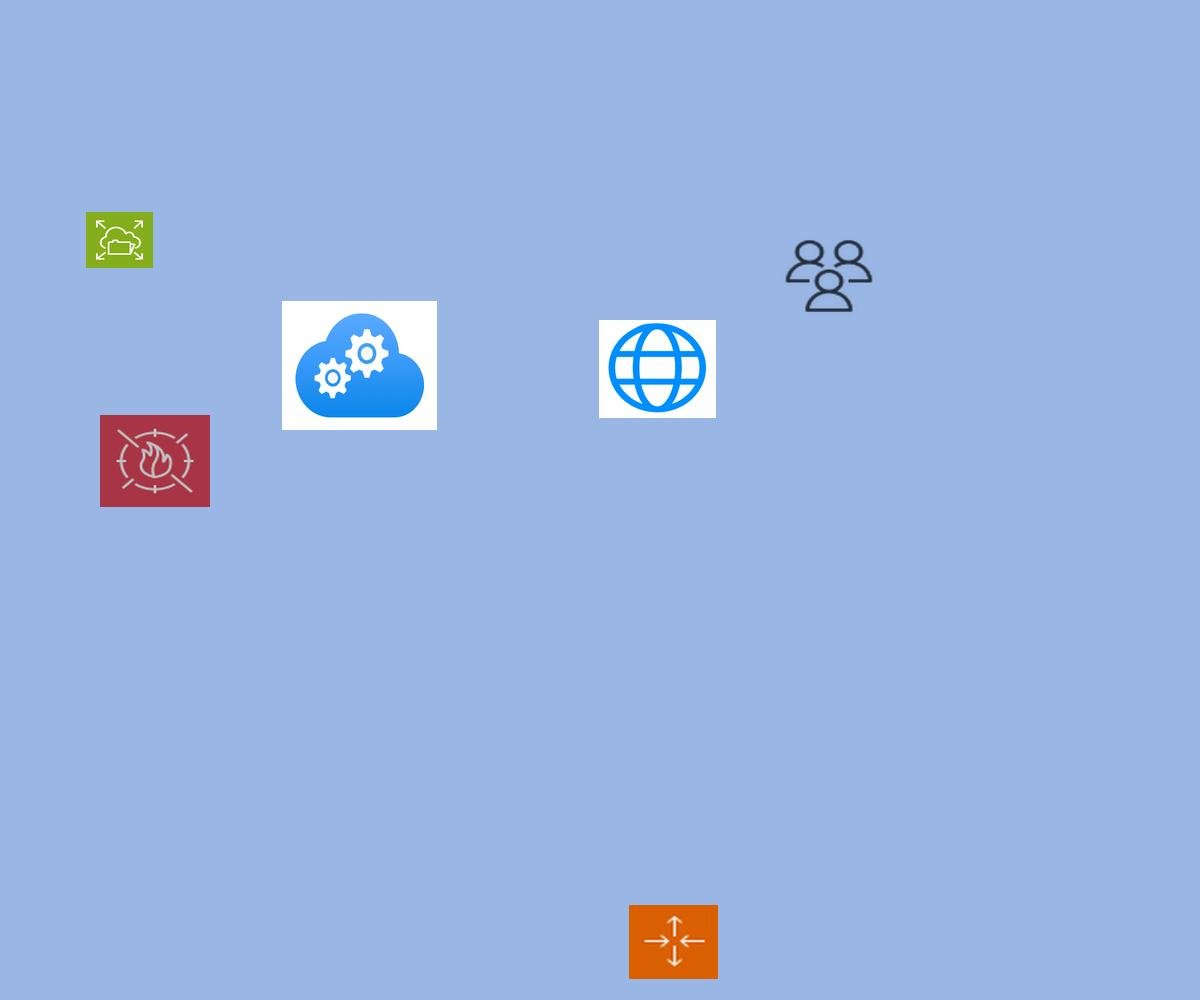AWS-EFS: (86, 212, 153, 268)
AWS-Res_Users: (782, 237, 876, 315)
AWS-Scaling-group: (629, 905, 718, 979)
AWS-WAF: (100, 415, 210, 507)
Azure_cloud_services: (282, 301, 437, 430)
Azure_http: (599, 320, 716, 418)
